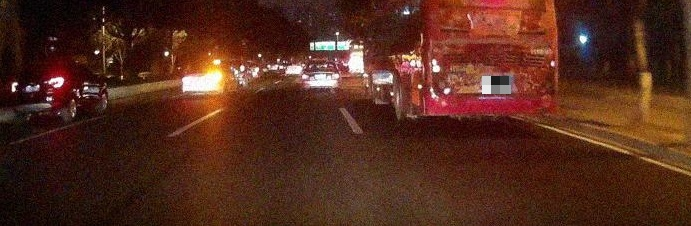L_light: (11, 81, 19, 93), (182, 76, 191, 83), (301, 74, 309, 79)
R_light: (47, 76, 65, 88), (210, 73, 221, 81), (331, 74, 339, 80)
T_light: (31, 67, 42, 69), (201, 59, 211, 61), (318, 62, 324, 63)
night-no: (10, 64, 74, 123), (301, 60, 340, 93)
night-right: (181, 58, 224, 94)
plate_1: (482, 76, 511, 94)
